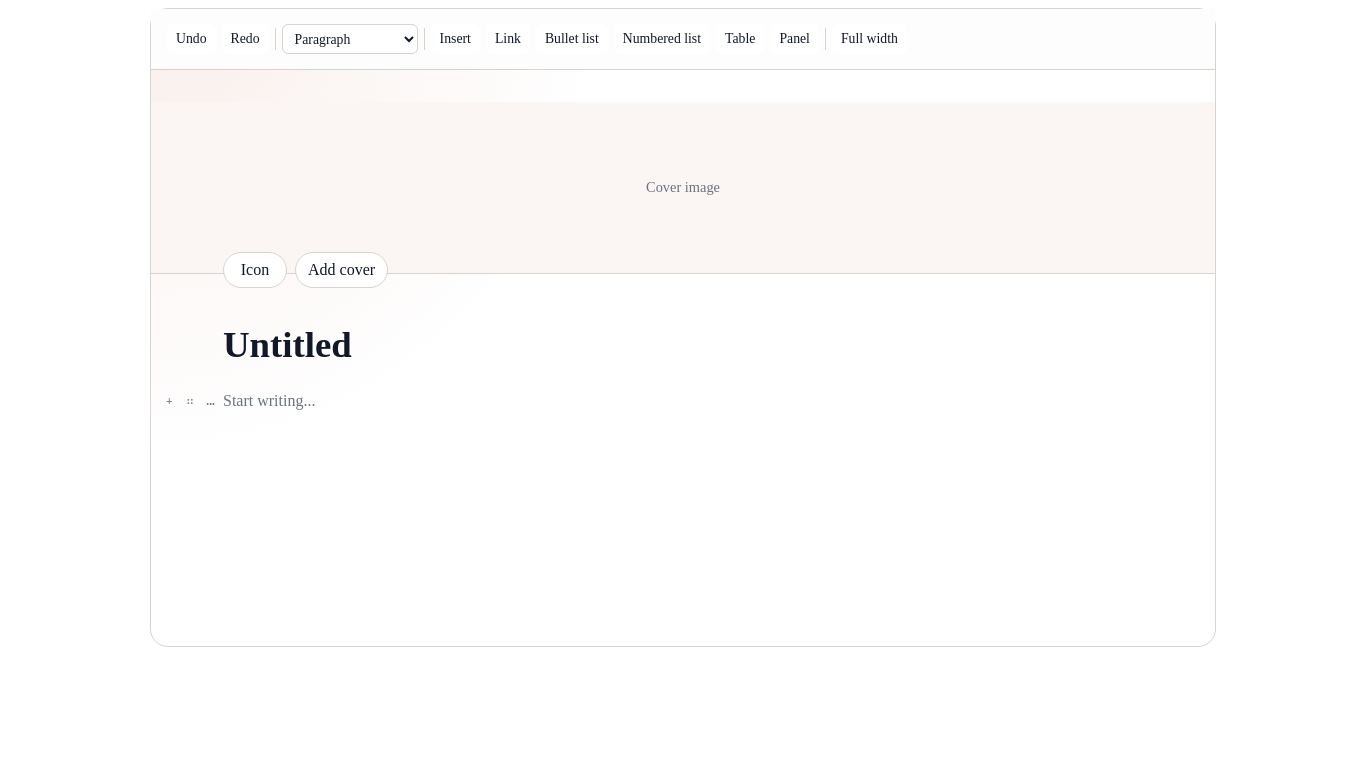
Test: StellaEditor › shows adapter link suggestions
The image size is (1366, 768).
Click the button "Link": coordinates (508, 39) [486,24,530,54]
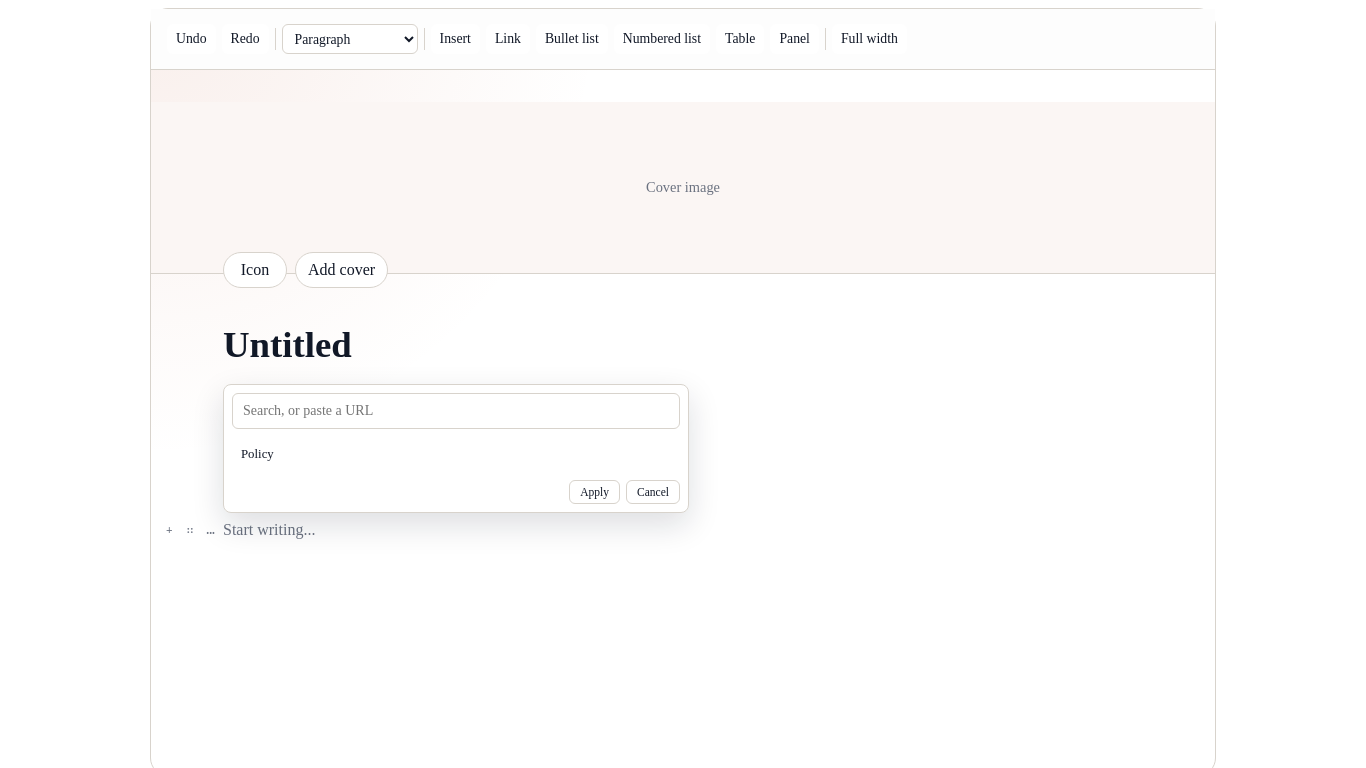
Check: the option "Policy" is shown, box [232,437,680,472]
